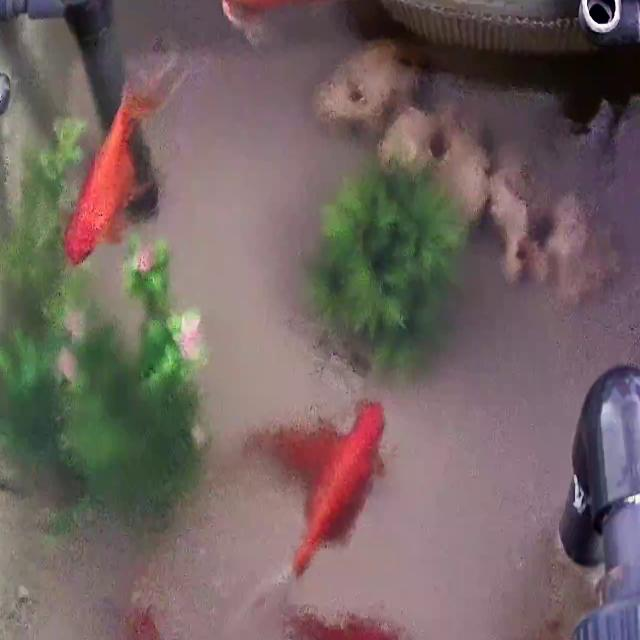fish: (63, 45, 190, 274), (290, 397, 382, 584), (244, 422, 355, 484), (198, 0, 351, 36), (285, 608, 405, 640), (120, 601, 178, 640)
